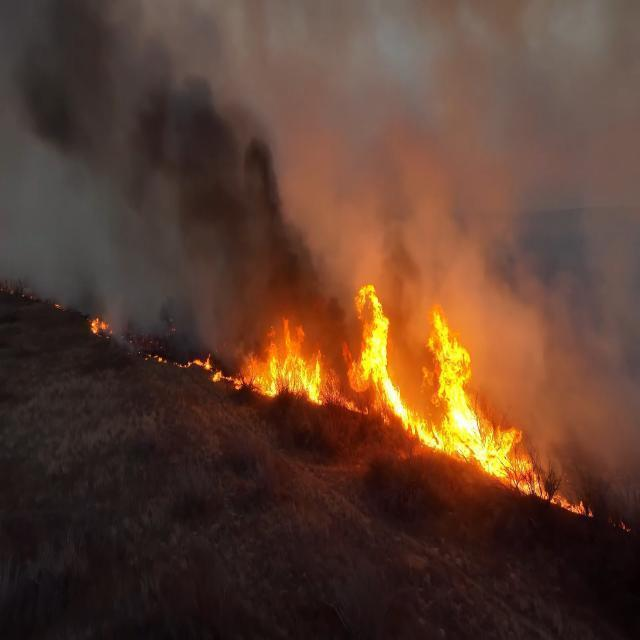Fire: (420, 309, 487, 464), (351, 273, 408, 425), (263, 331, 329, 425), (480, 423, 525, 477)
Smoke: (134, 31, 321, 298), (5, 0, 154, 160)
